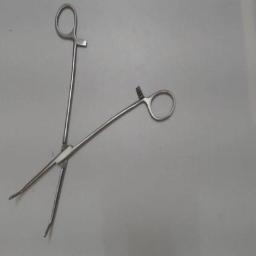Lahey Forceps: (6, 2, 178, 242)
